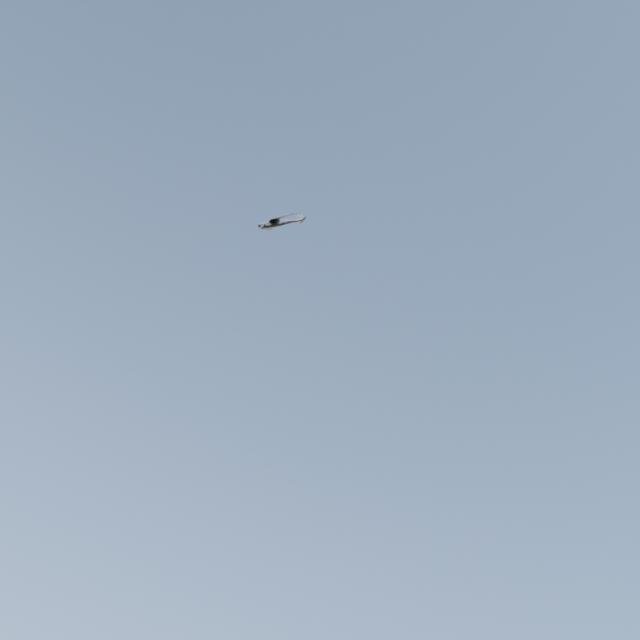Airaplan: (257, 213, 307, 231)
